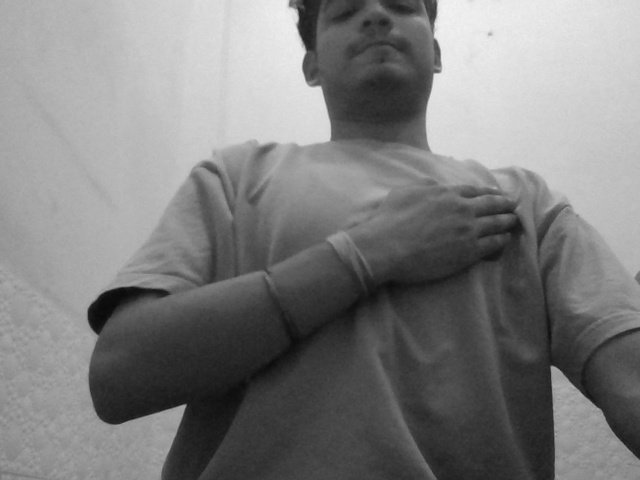Sorry: (323, 143, 556, 336)
